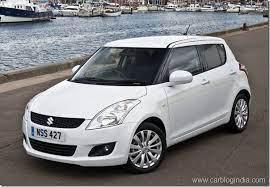Hatchback: (17, 35, 254, 172)
